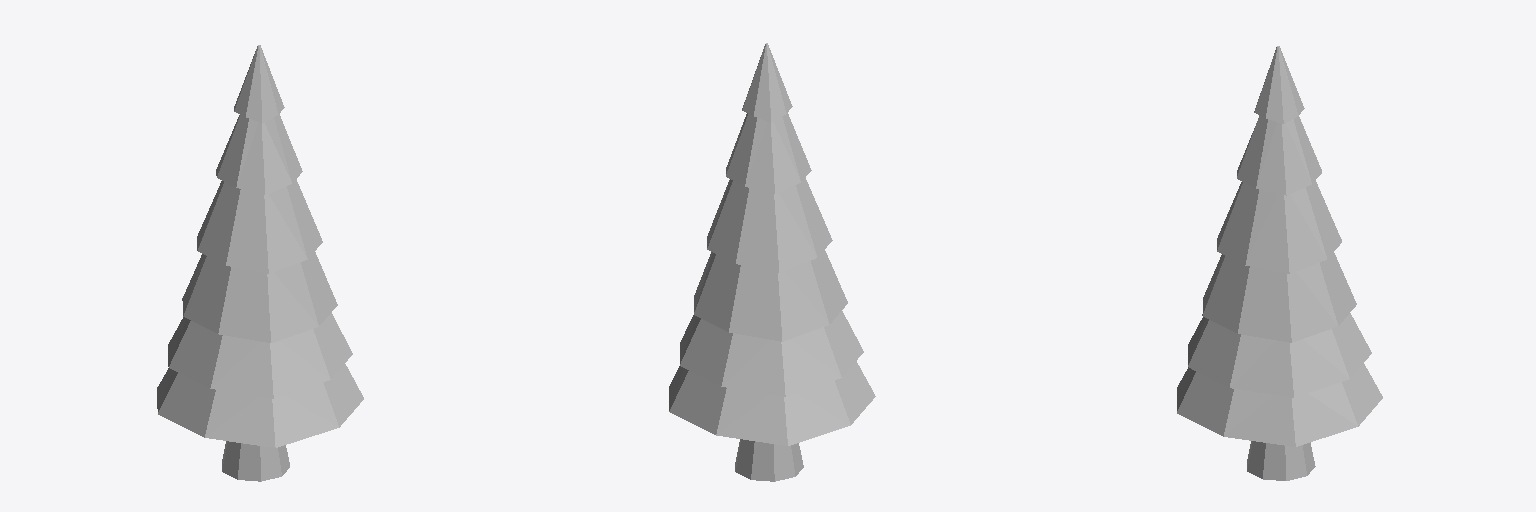
File: lowpolytree.obj
3 views of the same model, side by side, from view 1: azimuth 30°, elevation 25°; view 2: azimuth 150°, elevation 25°; view 3: azimuth 270°, elevation 25° (orthographic).
Visible parts, largest first — view 1: Cylinder; view 2: Cylinder; view 3: Cylinder.
Boxes of the visible parts, <box> form: Cylinder: <box>157,45,363,481</box>; Cylinder: <box>669,43,875,481</box>; Cylinder: <box>1177,46,1382,480</box>.
Bounding box in the file's own units: 2.31 × 5.12 × 2.28.